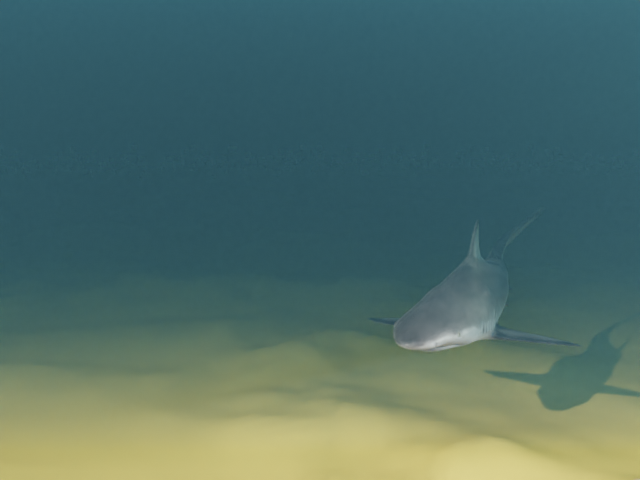Carribean Shark.001: (367, 206, 582, 351)
